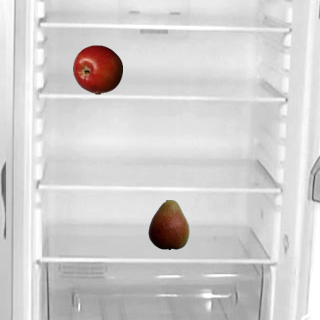Apple Braeburn: (72, 44, 122, 94)
Pear Forelle: (143, 199, 193, 249)
